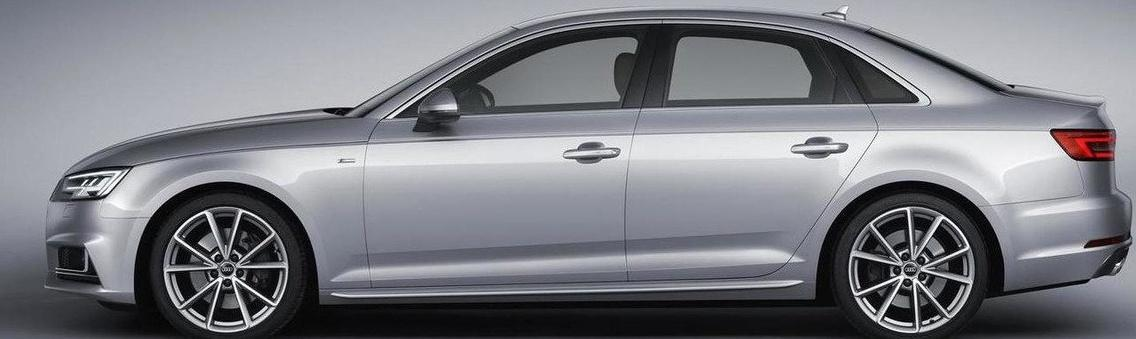Cars: (45, 10, 1136, 338)
